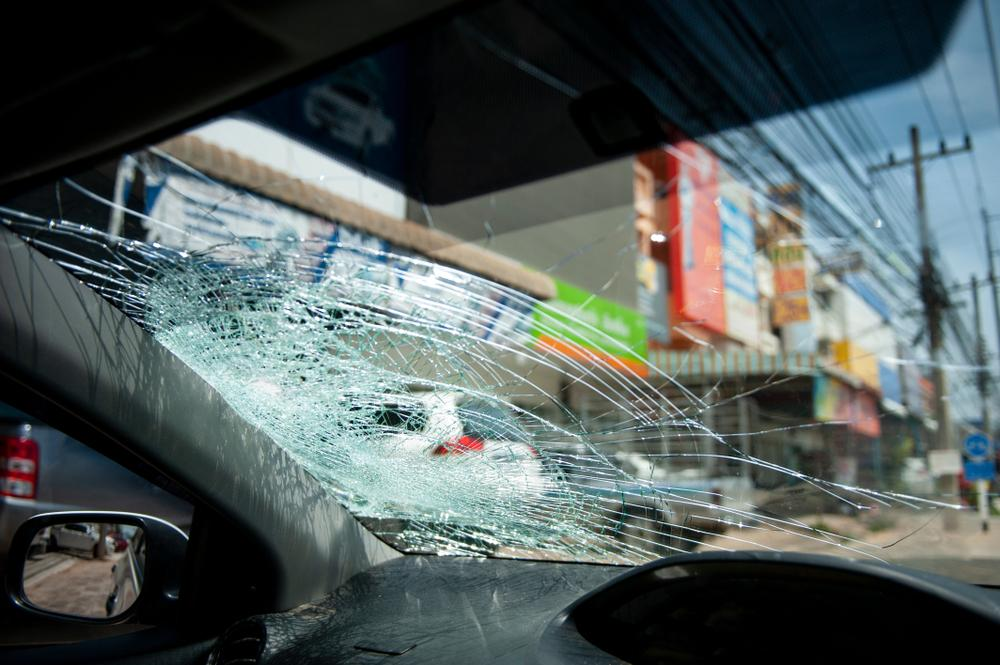glass shatter: (0, 0, 1000, 586)
